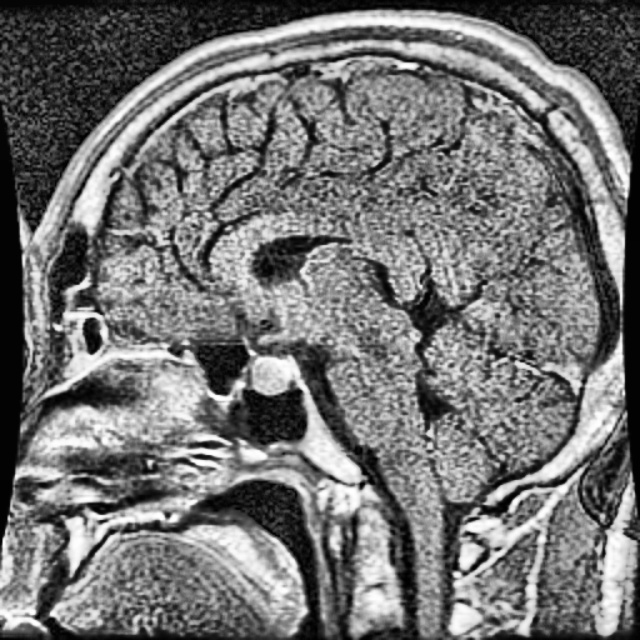Pituitary: (245, 353, 293, 393)
